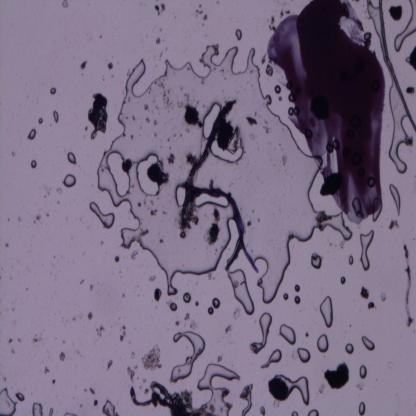Air bubble: (84, 43, 353, 301), (377, 0, 416, 135), (197, 360, 239, 416), (386, 83, 410, 175), (169, 332, 205, 383), (225, 268, 254, 316), (134, 151, 161, 197), (106, 150, 131, 198), (393, 1, 416, 53), (249, 313, 274, 353), (280, 374, 310, 406), (211, 141, 245, 165), (89, 202, 115, 231), (202, 101, 221, 140), (364, 0, 381, 42), (359, 228, 374, 272), (196, 192, 230, 209), (319, 296, 334, 328), (0, 387, 17, 415), (388, 184, 402, 216), (262, 349, 282, 371), (279, 323, 296, 346), (174, 182, 188, 209), (240, 383, 251, 416), (361, 334, 376, 352), (102, 398, 117, 415), (310, 250, 322, 270), (297, 347, 310, 364), (318, 334, 329, 354), (64, 172, 76, 190), (65, 150, 78, 165), (31, 400, 43, 416), (357, 362, 368, 379), (345, 342, 355, 355), (182, 291, 192, 304), (358, 401, 367, 415), (15, 392, 26, 403), (52, 110, 60, 124), (236, 26, 243, 42), (169, 301, 178, 313), (206, 305, 215, 317), (29, 158, 38, 170), (28, 128, 37, 140), (212, 298, 221, 309), (307, 408, 319, 416), (339, 275, 347, 286), (273, 85, 281, 96), (294, 282, 300, 294), (290, 408, 298, 416), (282, 292, 290, 300), (51, 86, 57, 96), (38, 115, 44, 125), (294, 296, 301, 304), (349, 255, 354, 266), (48, 406, 53, 415)
Background material: (85, 92, 108, 138), (323, 364, 350, 392), (141, 343, 164, 371), (183, 103, 204, 130), (267, 378, 290, 402), (206, 207, 220, 246), (146, 166, 169, 185), (388, 3, 404, 22), (184, 312, 199, 330), (195, 3, 208, 21), (153, 3, 169, 17), (315, 212, 332, 224), (185, 151, 198, 166), (222, 323, 235, 337), (409, 46, 416, 70), (121, 160, 133, 174), (359, 285, 369, 301), (30, 334, 43, 346), (94, 324, 106, 337), (165, 152, 176, 166), (246, 116, 260, 127), (127, 366, 136, 382), (119, 325, 127, 343), (389, 217, 400, 230), (406, 84, 416, 98), (153, 287, 162, 302), (130, 248, 140, 261), (140, 227, 150, 239), (234, 307, 242, 321), (258, 404, 267, 416), (114, 254, 123, 266), (265, 65, 274, 76), (148, 207, 159, 216), (357, 382, 366, 392), (366, 300, 376, 309), (105, 358, 113, 369), (79, 59, 87, 70), (106, 61, 114, 71), (318, 383, 326, 393), (42, 365, 50, 375), (92, 398, 100, 408), (58, 352, 66, 362), (282, 154, 288, 166), (154, 36, 162, 45), (380, 292, 387, 302), (61, 1, 69, 9), (88, 388, 96, 396), (87, 312, 93, 322), (144, 117, 151, 124), (7, 337, 13, 345), (174, 320, 180, 328), (152, 119, 158, 125), (144, 104, 148, 112)
Cellulose filter fibre: (179, 100, 237, 230), (128, 382, 203, 414), (402, 244, 413, 325)
Cotton: (193, 186, 261, 274)
Pen: (266, 0, 388, 226)
